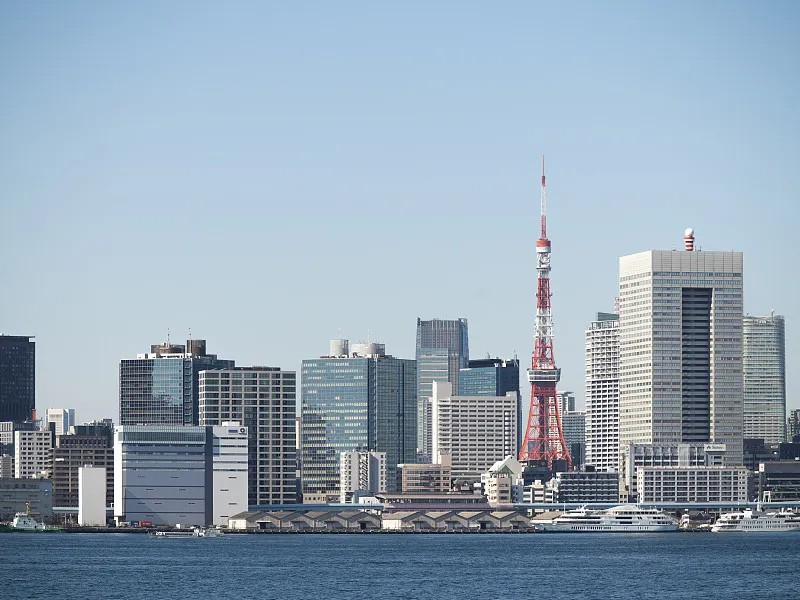Tokyo: (518, 150, 573, 466)
